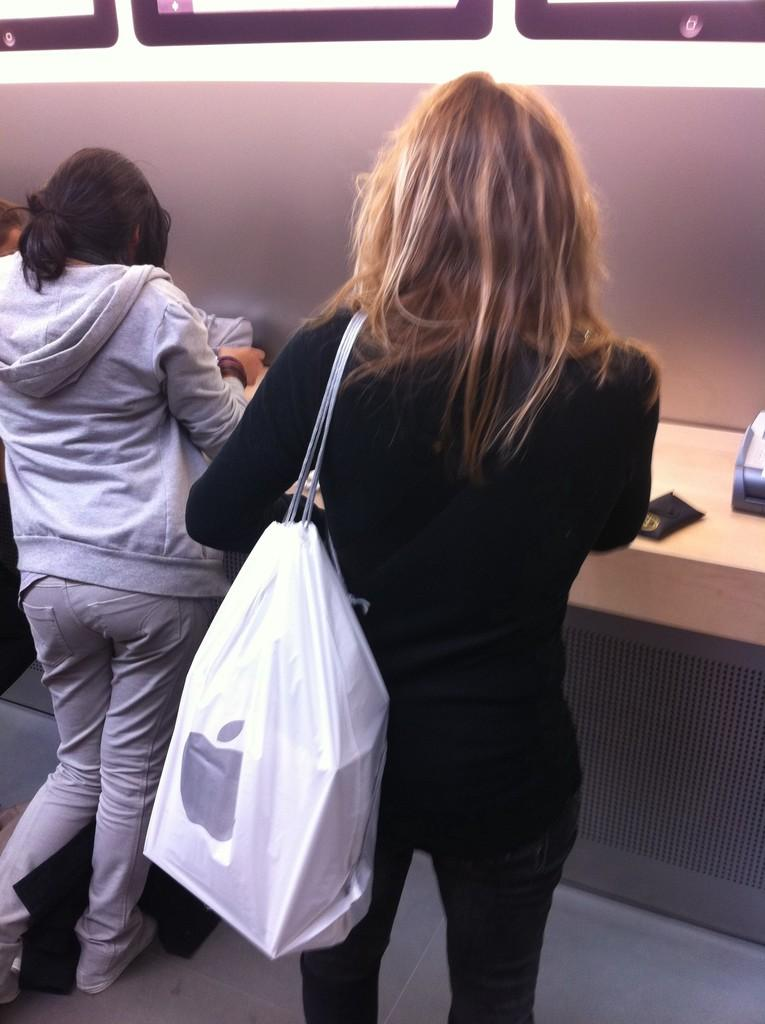Luggage-and-bags: (125, 338, 401, 962)
